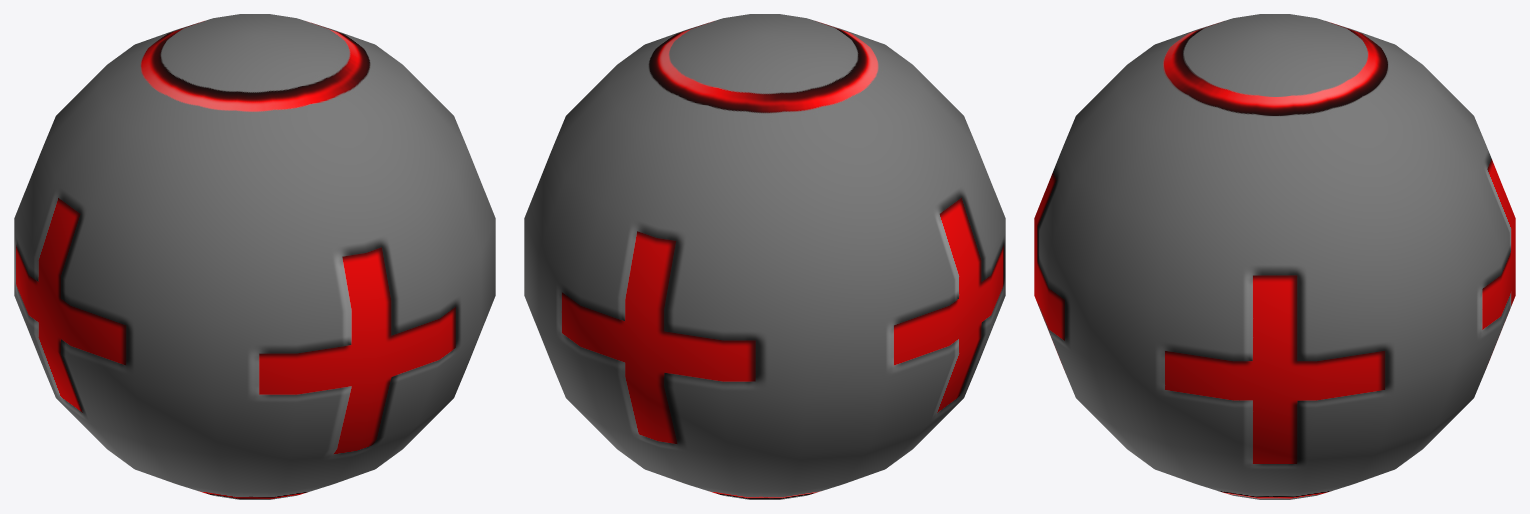
Rendered from HealthBall.FBX.
3 views of the same model, side by side, from view 1: azimuth 30°, elevation 25°; view 2: azimuth 150°, elevation 25°; view 3: azimuth 270°, elevation 25° (orthographic).
Visible parts, largest first — view 1: Sphere001; view 2: Sphere001; view 3: Sphere001.
Part boxes in pixels (x1,y1,x2,y2): Sphere001: (14,14,495,499); Sphere001: (524,14,1005,499); Sphere001: (1034,14,1515,499).
Bounding box in the file's own units: 37.93 × 39.11 × 38.52.
Materials: 1 (1 with a texture image).
